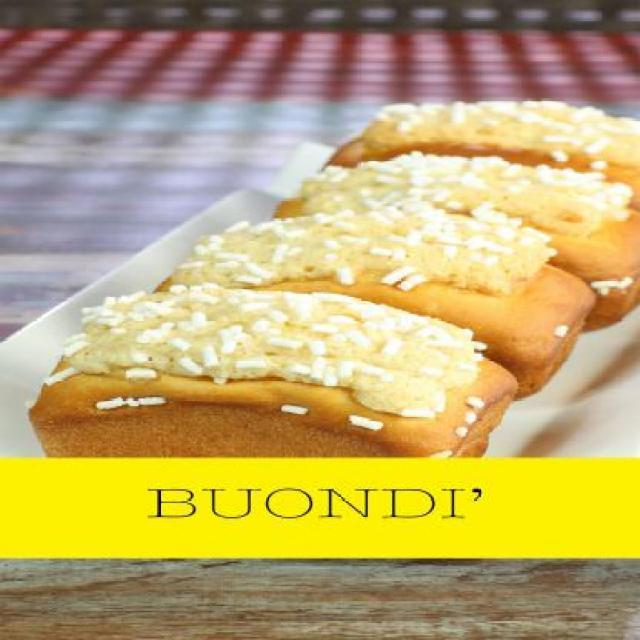Merendine packaged: (31, 283, 517, 491), (120, 213, 594, 402), (258, 154, 640, 331), (309, 97, 640, 228)
